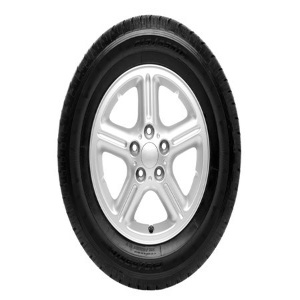tire: (56, 12, 245, 292)
